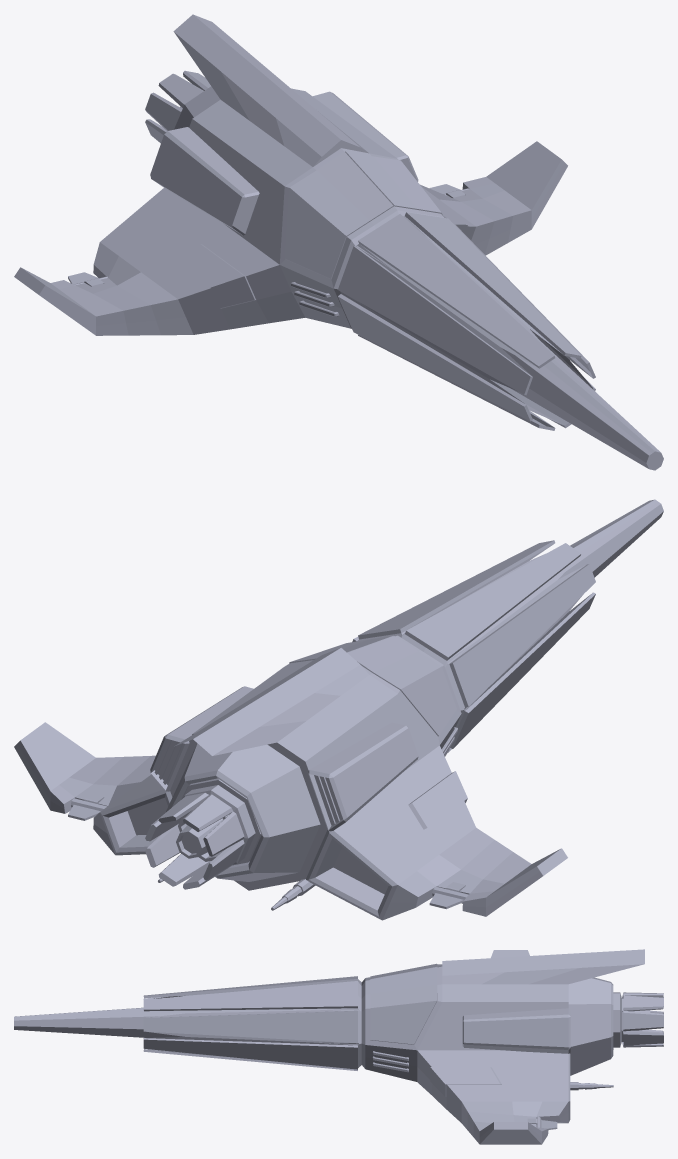
The model's file is LD50-Ship-01.glb.
3 renders of one model, top to bottom at view 1: azimuth 30°, elevation 25°; view 2: azimuth 150°, elevation 25°; view 3: azimuth 270°, elevation 25°, orthographic. The views are drawn at different scales.
Visible parts, largest first — view 1: 04.3-No_Ngone.001; view 2: 04.3-No_Ngone.001; view 3: 04.3-No_Ngone.001.
Boxes of the visible parts, x1,y1,x2,y2 form: 04.3-No_Ngone.001: (14,14,663,470); 04.3-No_Ngone.001: (14,499,663,920); 04.3-No_Ngone.001: (14,949,663,1144).
Size of the model in its own units: 4.1 by 1.42 by 6.39.
